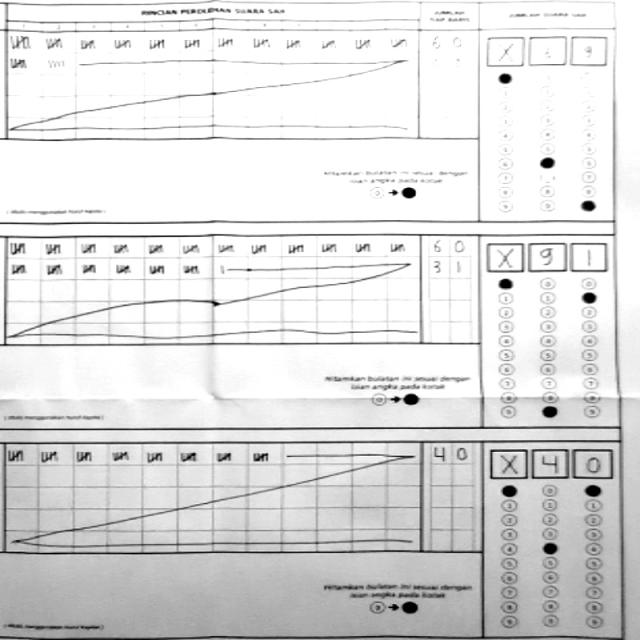Suara: (485, 446, 618, 486), (477, 234, 610, 274), (475, 30, 609, 68)
